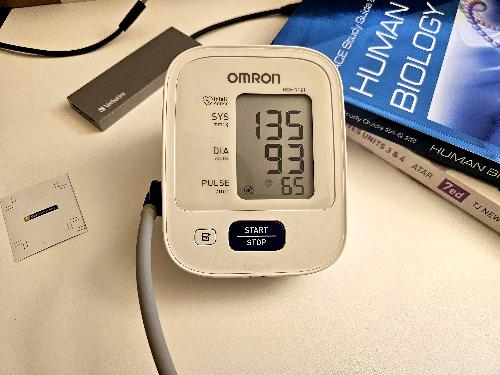bpm: (235, 92, 316, 201)
